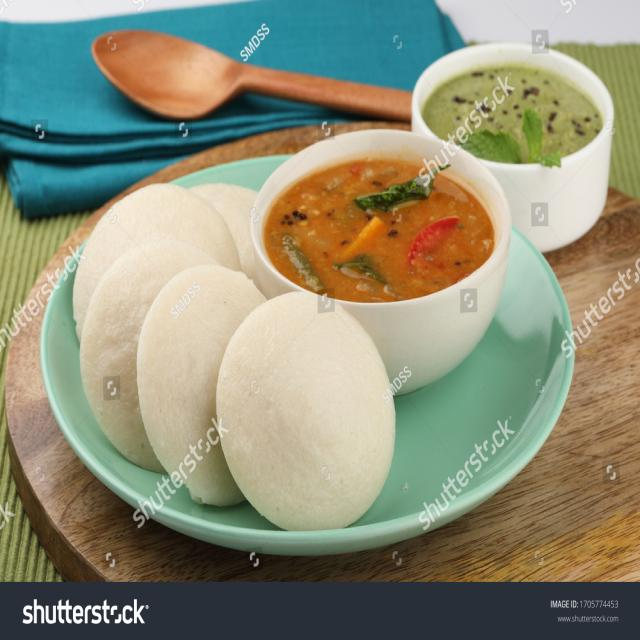IDLI: (214, 284, 400, 536), (136, 264, 266, 508), (83, 235, 208, 468), (77, 180, 241, 330)
